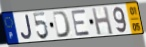5: (32, 11, 50, 41)
9: (113, 6, 128, 34)
D: (52, 10, 72, 39)
E: (70, 9, 91, 38)
H: (90, 5, 115, 36)
J: (19, 14, 33, 41)
